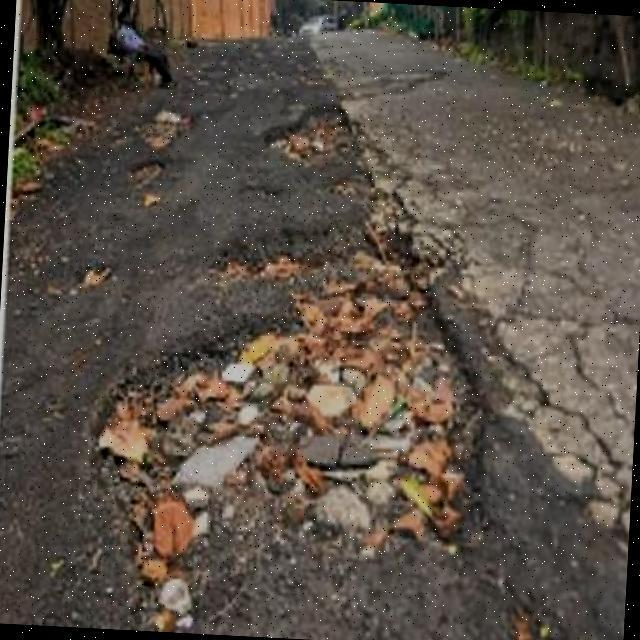Pothole: (89, 179, 484, 640), (263, 105, 360, 177), (128, 110, 192, 148)
